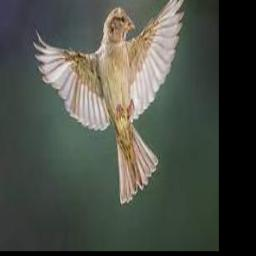Sparrow: (33, 0, 186, 203)
